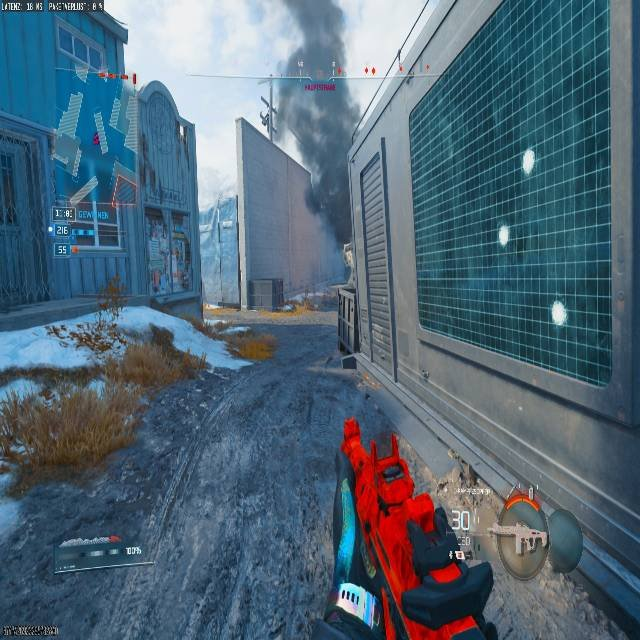head: (487, 499, 551, 576)
